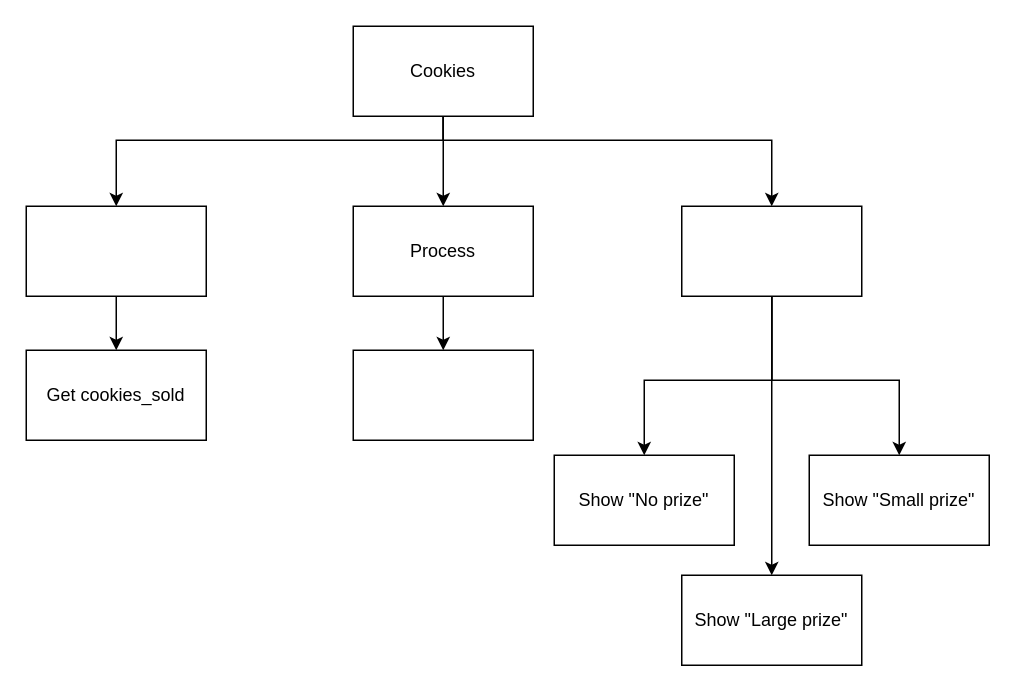
This 1016x692 diagram has some shape labels left out. Here are the shapes that lost their labels. From the top down, the centre of each, then its label:
At (115,250): "Input".
At (771,250): "Output".
At (442,394): "Check if you win a prize".
